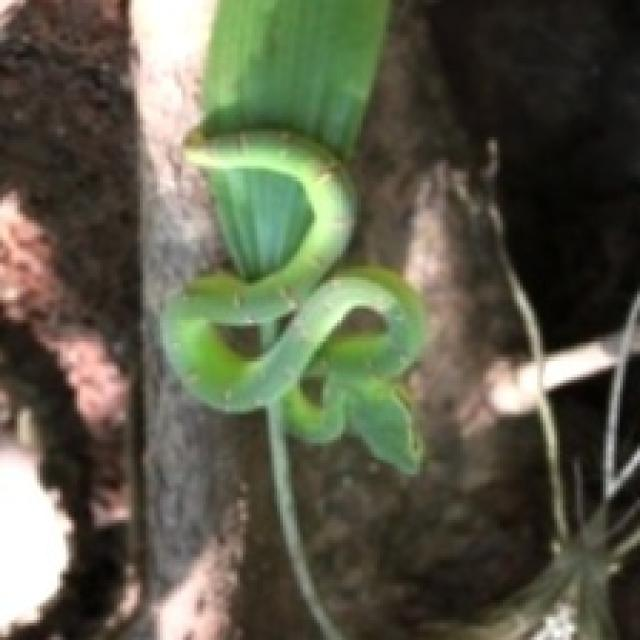north ph temple pitviper: (163, 0, 423, 637)
